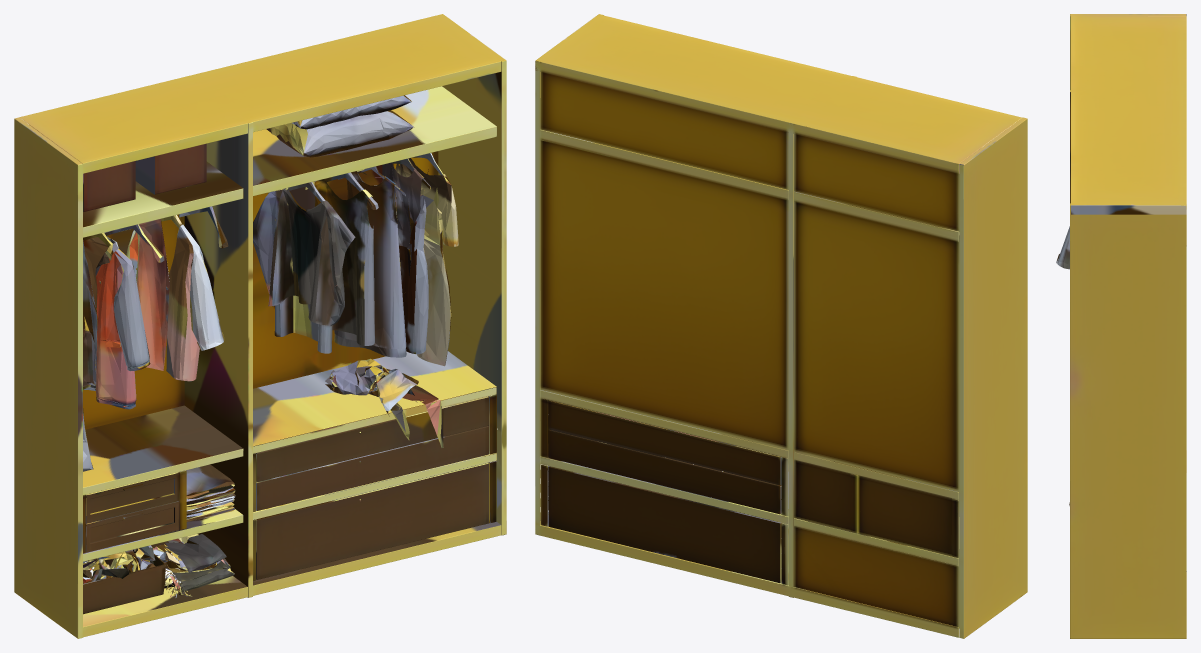
File: edited_mesh.glb
The picture shows the model from 3 angles, left to right: view 1: azimuth 30°, elevation 25°; view 2: azimuth 150°, elevation 25°; view 3: azimuth 270°, elevation 25°; orthographic projection. The views are drawn at different scales.
Parts seen in each view (by area): view 1: solid_001_wire; view 2: solid_001_wire; view 3: solid_001_wire.
Part boxes in pixels (left/top/right/bottom): solid_001_wire: left=14, top=14, right=506, bottom=638; solid_001_wire: left=535, top=14, right=1027, bottom=638; solid_001_wire: left=1056, top=14, right=1186, bottom=638.
Size of the model in its own units: 1.28 by 1.36 by 0.3697.
1 material, 1 textured.
